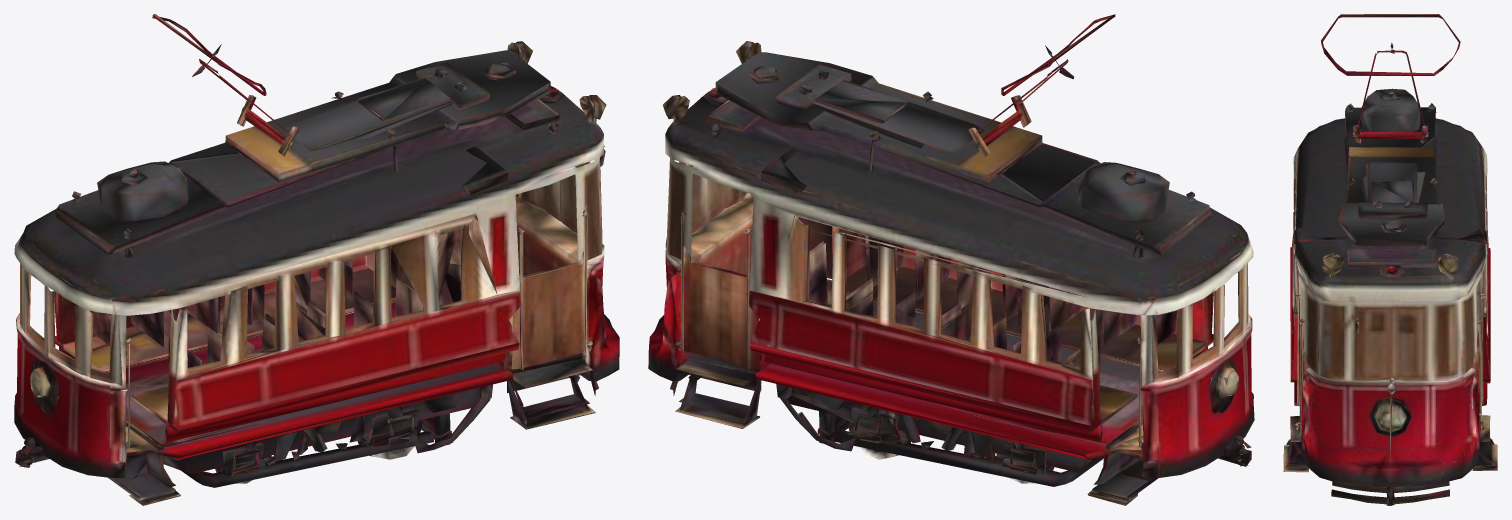
The model's file is city_istanbul_streetcar.glb.
The picture shows the model from 3 angles, left to right: view 1: azimuth 30°, elevation 25°; view 2: azimuth 150°, elevation 25°; view 3: azimuth 270°, elevation 25°; orthographic projection. The views are drawn at different scales.
Parts seen in each view (by area): view 1: mesh_node; view 2: mesh_node; view 3: mesh_node.
Boxes of the visible parts, x1,y1,x2,y2 form: mesh_node: (14, 14, 619, 505); mesh_node: (648, 14, 1254, 505); mesh_node: (1283, 14, 1497, 505).
Bounding box in the file's own units: 3.51 × 2.5 × 1.42.
1 material, 1 textured.
